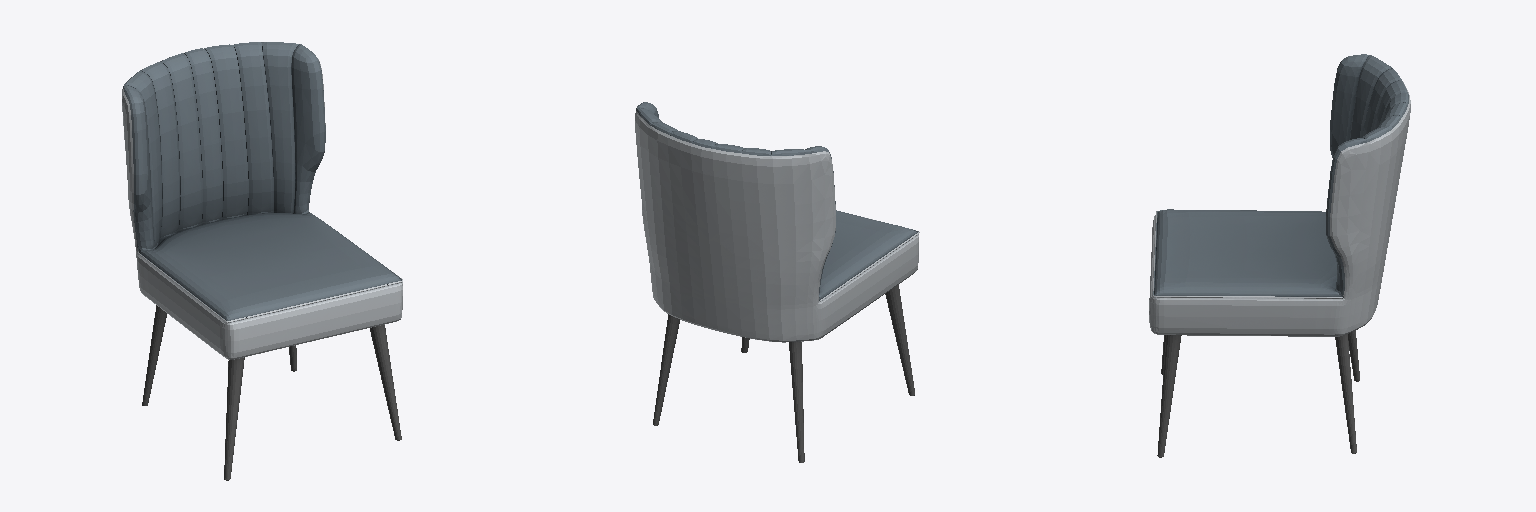
3 renders of one model, left to right at view 1: azimuth 30°, elevation 25°; view 2: azimuth 150°, elevation 25°; view 3: azimuth 270°, elevation 25°, orthographic.
Parts seen in each view (by area): view 1: solid_002, solid_001, solid_003; view 2: solid_001, solid_002, solid_003; view 3: solid_002, solid_001, solid_003.
Boxes of the visible parts, box(x1,y1,x2,y2) form: solid_002: box(123, 42, 401, 320); solid_001: box(122, 59, 402, 359); solid_003: box(142, 305, 401, 480); solid_001: box(635, 111, 919, 342); solid_002: box(636, 102, 918, 300); solid_003: box(653, 285, 914, 462); solid_002: box(1153, 54, 1408, 296); solid_001: box(1149, 82, 1410, 336); solid_003: box(1157, 330, 1359, 457).
Size of the model in its own units: 0.5516 by 0.8769 by 0.6508.
Materials: 1 (1 with a texture image).